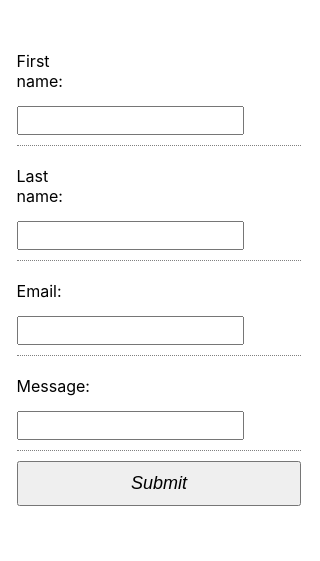
Test case: Testing form › should render proper errors when nothing entered
Click the button "Submit": (159, 483) [16,460,301,506]
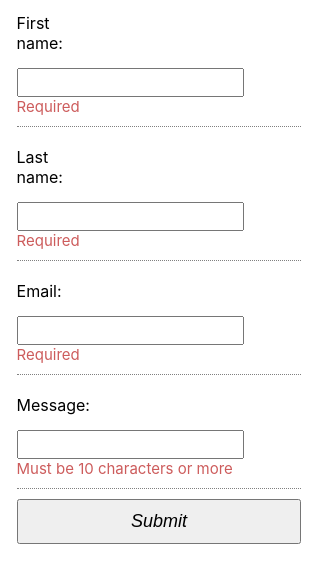
Expected: the number of elements with test id "errorMessage" is 4, [16,96,80,116]; [16,230,80,250]; [16,344,80,364]; [16,458,233,478]
Expected: the text with test id "errorMessage" below "First name:" reads "Required", [16,96,80,116]
Expected: the text with test id "errorMessage" below "Last name:" reads "Required", [16,230,80,250]
